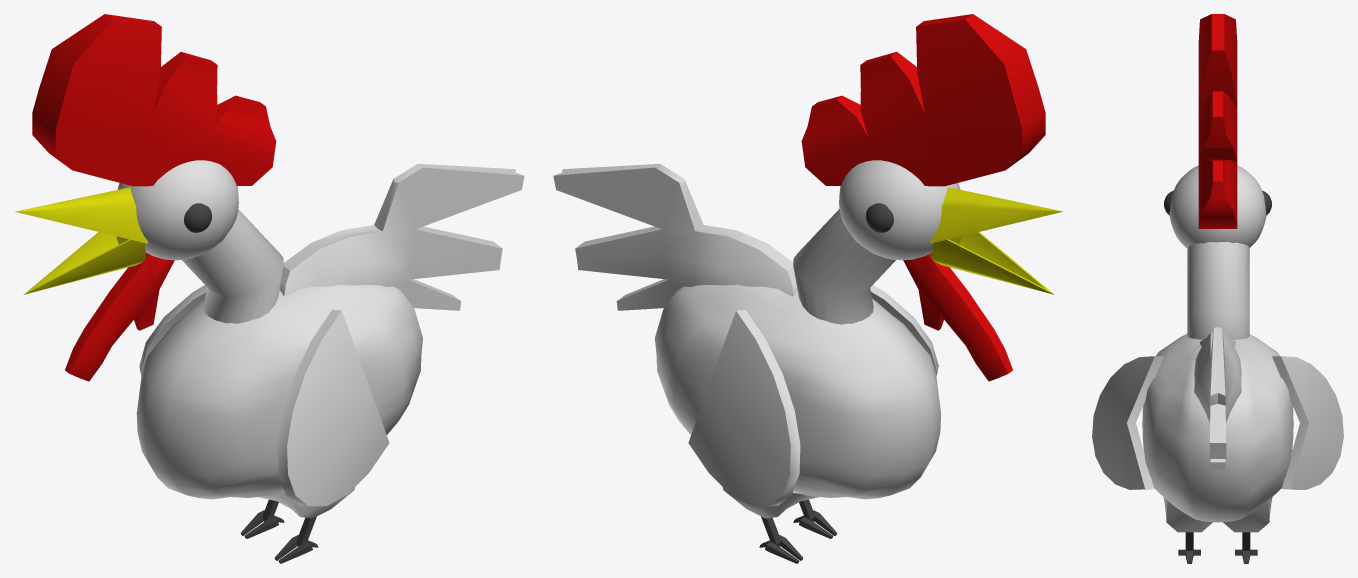
The model's file is 1stChicken.fbx.
3 views of the same model, side by side, from view 1: azimuth 30°, elevation 25°; view 2: azimuth 150°, elevation 25°; view 3: azimuth 270°, elevation 25° (orthographic). The views are drawn at different scales.
Visible parts, largest first — view 1: pSphere2, pCube3, pCube1, pCylinder2, pSphere1, pCylinder1, polySurface2, pCube4, pCube2, pSphere3; view 2: pSphere2, pCube3, pCube1, pCylinder2, pSphere1, pCylinder1, polySurface2, pCube4, pCube2, pSphere3; view 3: pSphere2, pCylinder2, pCube3, pCylinder1, pCube1, pSphere1, pCube2.
Part boxes in pixels (bbox=[...]): pSphere2: bbox=[136, 284, 422, 499]; pCube3: bbox=[32, 14, 276, 186]; pCube1: bbox=[279, 163, 524, 310]; pCylinder2: bbox=[139, 285, 389, 506]; pSphere1: bbox=[117, 160, 238, 260]; pCylinder1: bbox=[182, 209, 283, 323]; polySurface2: bbox=[15, 187, 147, 294]; pCube4: bbox=[65, 253, 174, 381]; pCube2: bbox=[241, 487, 355, 563]; pSphere3: bbox=[184, 203, 211, 232]; pSphere2: bbox=[655, 284, 940, 499]; pCube3: bbox=[801, 14, 1045, 186]; pCube1: bbox=[553, 163, 797, 310]; pCylinder2: bbox=[688, 285, 938, 506]; pSphere1: bbox=[839, 160, 960, 260]; pCylinder1: bbox=[793, 209, 895, 324]; polySurface2: bbox=[930, 187, 1062, 294]; pCube4: bbox=[903, 253, 1012, 381]; pCube2: bbox=[722, 487, 836, 563]; pSphere3: bbox=[865, 203, 893, 232]; pSphere2: bbox=[1142, 334, 1293, 522]; pCylinder2: bbox=[1092, 356, 1343, 489]; pCube3: bbox=[1198, 14, 1237, 228]; pCylinder1: bbox=[1187, 241, 1249, 339]; pCube1: bbox=[1194, 326, 1241, 469]; pSphere1: bbox=[1169, 165, 1266, 248]; pCube2: bbox=[1163, 497, 1272, 563].
Bounding box in the file's own units: 64.61 × 69.55 × 33.33.
